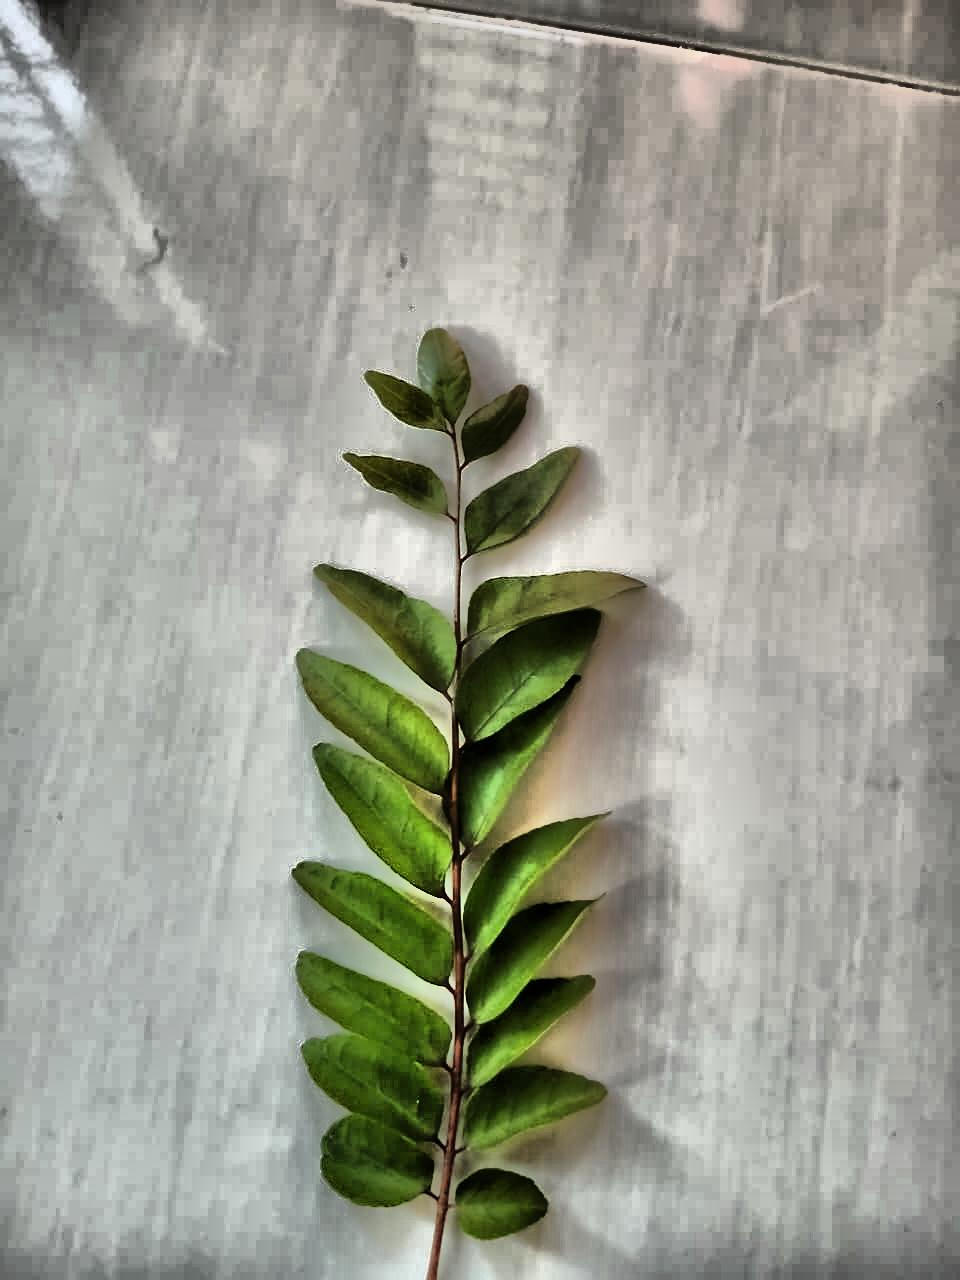daun kari: (293, 328, 636, 1279)
